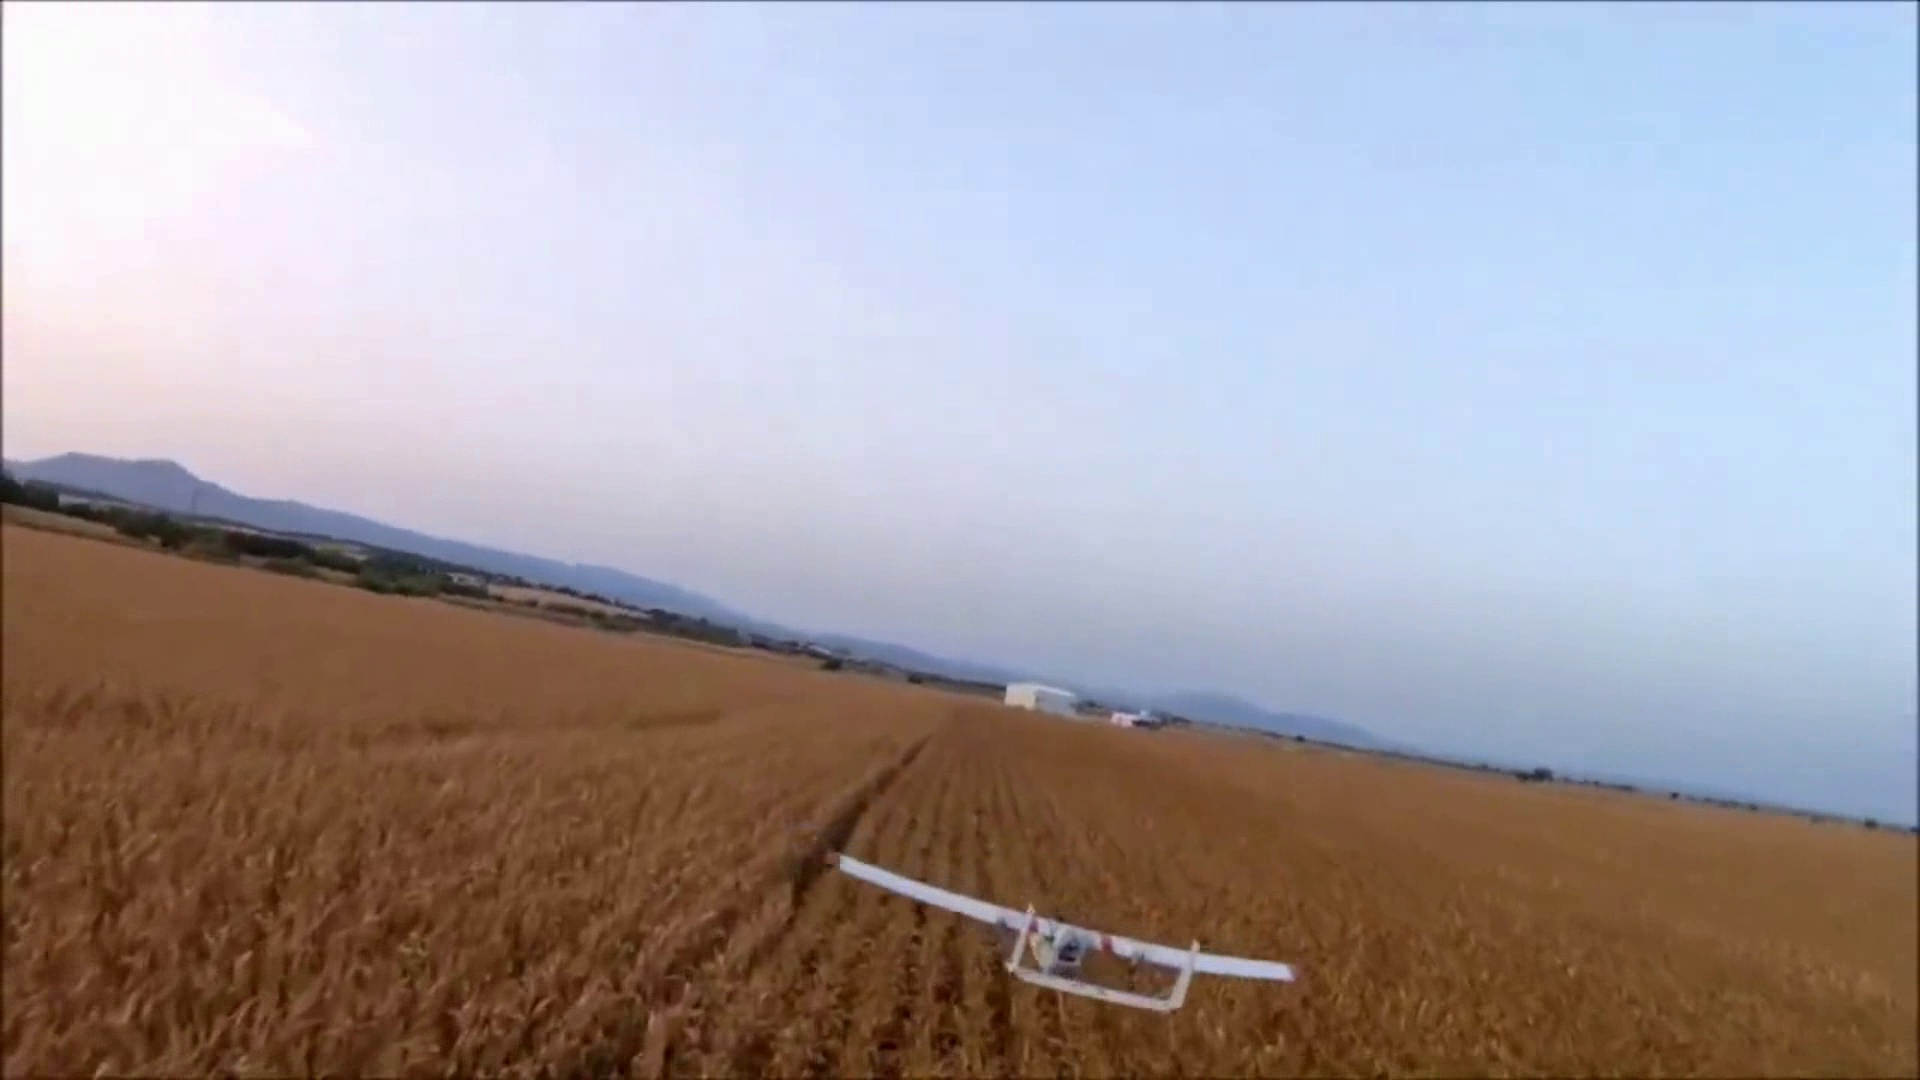airplane: (833, 849, 1299, 1013)
